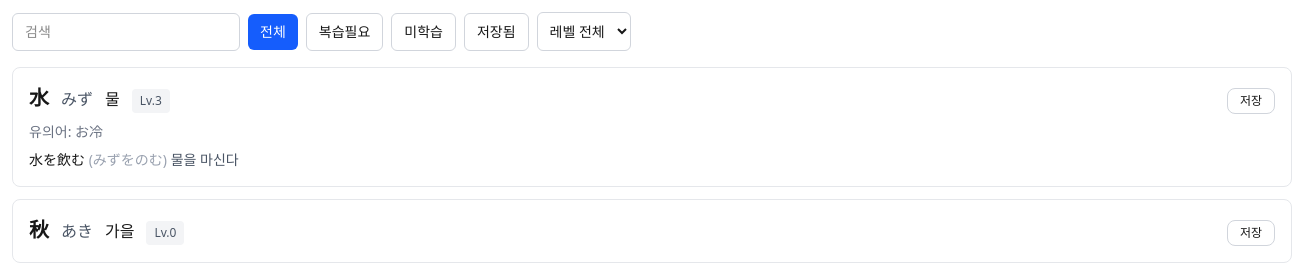
WordCardList › '복습필요' 필터를 누르면 next_review_date <= today 카드만 남는다
What coordinates should you click on to do the following:
click the button "복습필요"
I would click on:
 (345, 32)
Its box is [306,12,383,50].
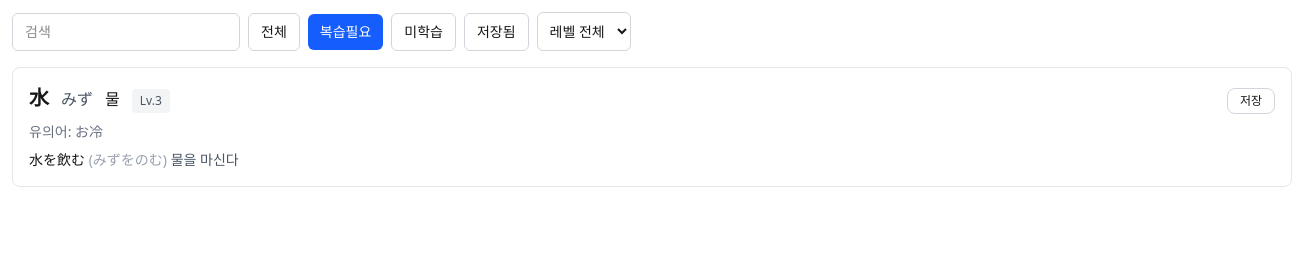
Expected: the text "水" is shown, [29,84,49,112]
Expected: the text "秋" is gone
